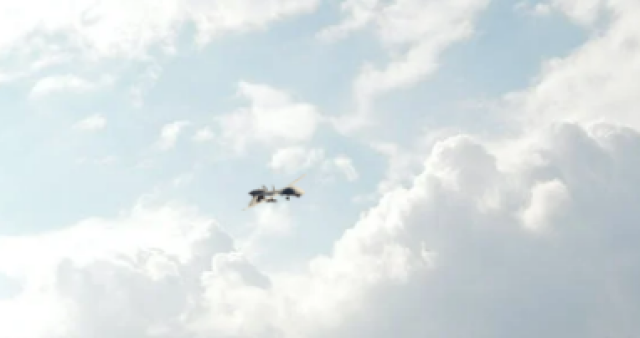military drone: (241, 173, 307, 210)
